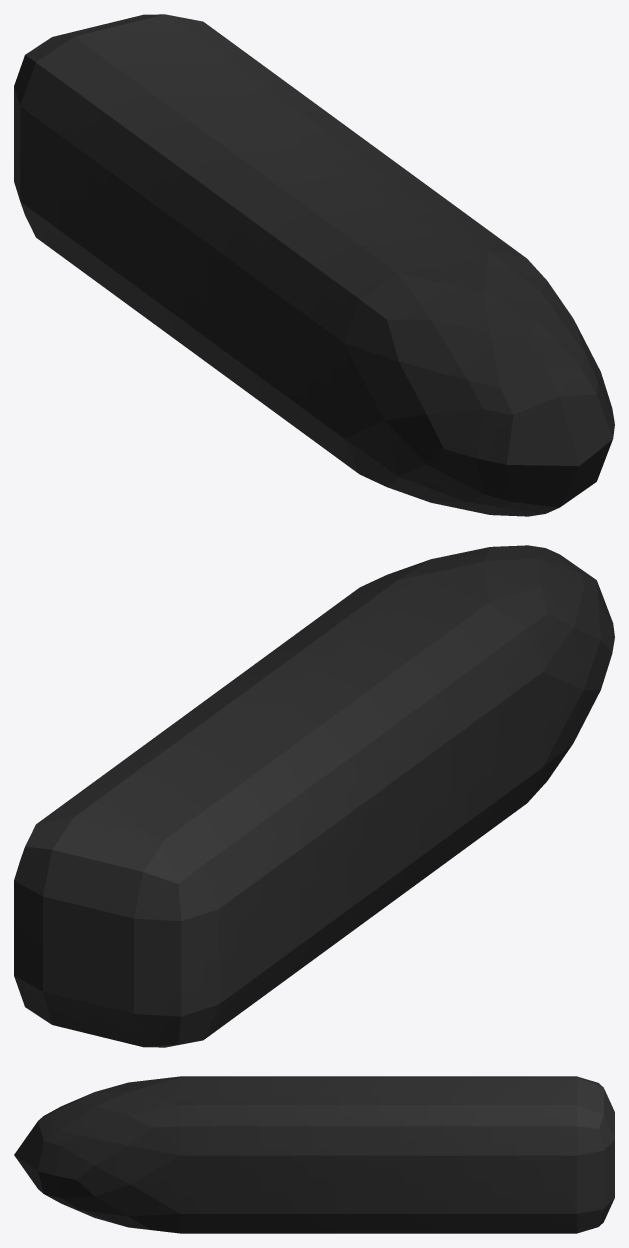
File: Projectile.fbx
3 renders of one model, top to bottom at view 1: azimuth 30°, elevation 25°; view 2: azimuth 150°, elevation 25°; view 3: azimuth 270°, elevation 25°, orthographic. The views are drawn at different scales.
Parts seen in each view (by area): view 1: Cube; view 2: Cube; view 3: Cube.
Boxes of the visible parts, left/top/right/bottom form: Cube: left=14, top=14, right=614, bottom=516; Cube: left=14, top=545, right=614, bottom=1047; Cube: left=14, top=1076, right=614, bottom=1233.
Size of the model in its own units: 200 by 200 by 855.
